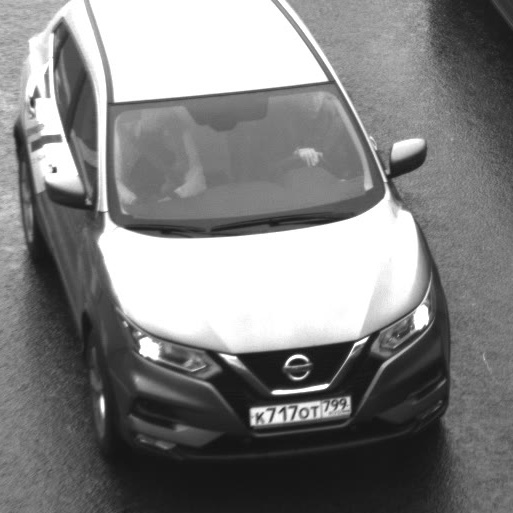plate: (245, 387, 358, 433)
